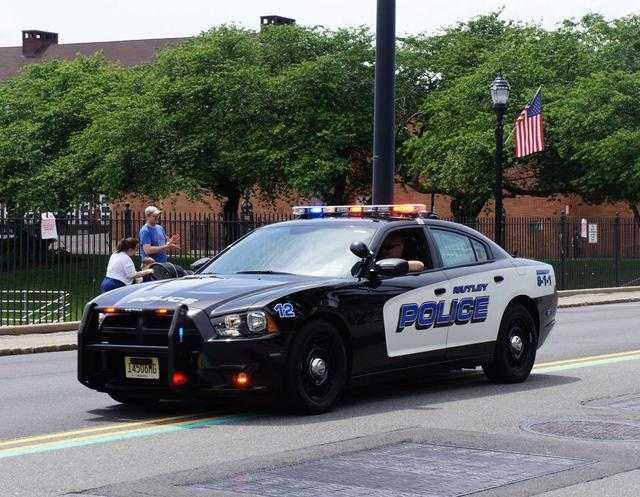Police Car: (66, 192, 554, 415)
